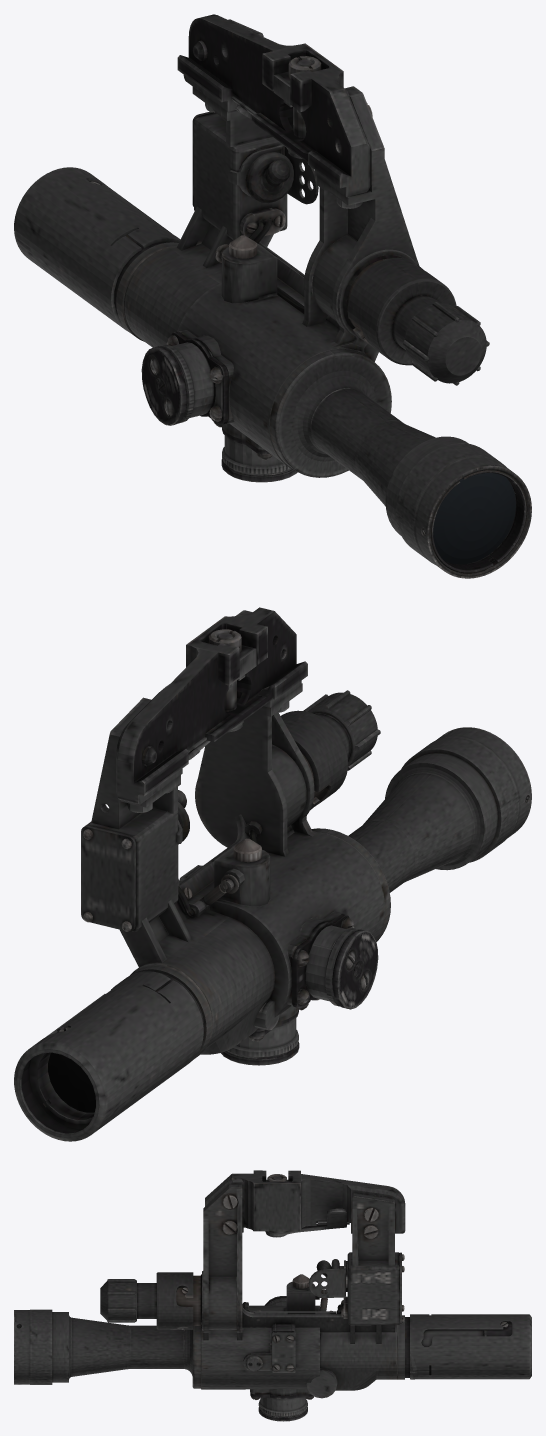
3 views of the same model, one above another, from view 1: azimuth 30°, elevation 25°; view 2: azimuth 150°, elevation 25°; view 3: azimuth 270°, elevation 25° (orthographic). The views are drawn at different scales.
Parts seen in each view (by area): view 1: TW_5c82343a2e221644f31c0611_PZ_Import; view 2: TW_5c82343a2e221644f31c0611_PZ_Import; view 3: TW_5c82343a2e221644f31c0611_PZ_Import.
Part boxes in pixels (left/top/right/bottom): TW_5c82343a2e221644f31c0611_PZ_Import: left=14, top=14, right=531, bottom=578; TW_5c82343a2e221644f31c0611_PZ_Import: left=14, top=607, right=531, bottom=1141; TW_5c82343a2e221644f31c0611_PZ_Import: left=14, top=1170, right=531, bottom=1421.
Bounding box in the file's own units: 0.0405 × 0.1488 × 0.0781.
1 material, 1 textured.
